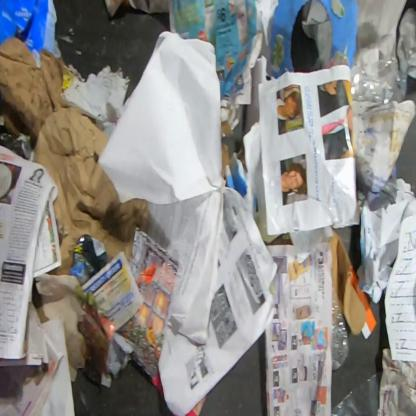cardboard: (327, 231, 378, 339), (0, 0, 62, 58)
rigid_plastic: (331, 288, 350, 371)
soft_plastic: (350, 56, 408, 106), (331, 371, 384, 415)
